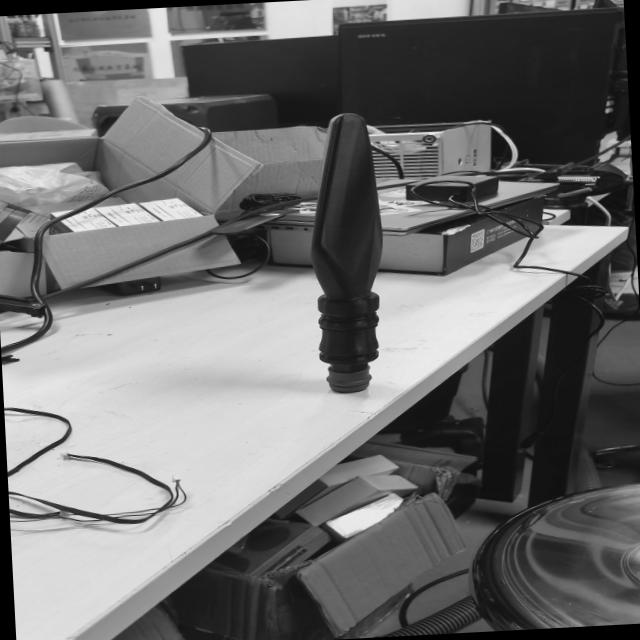base: (320, 363, 386, 398)
